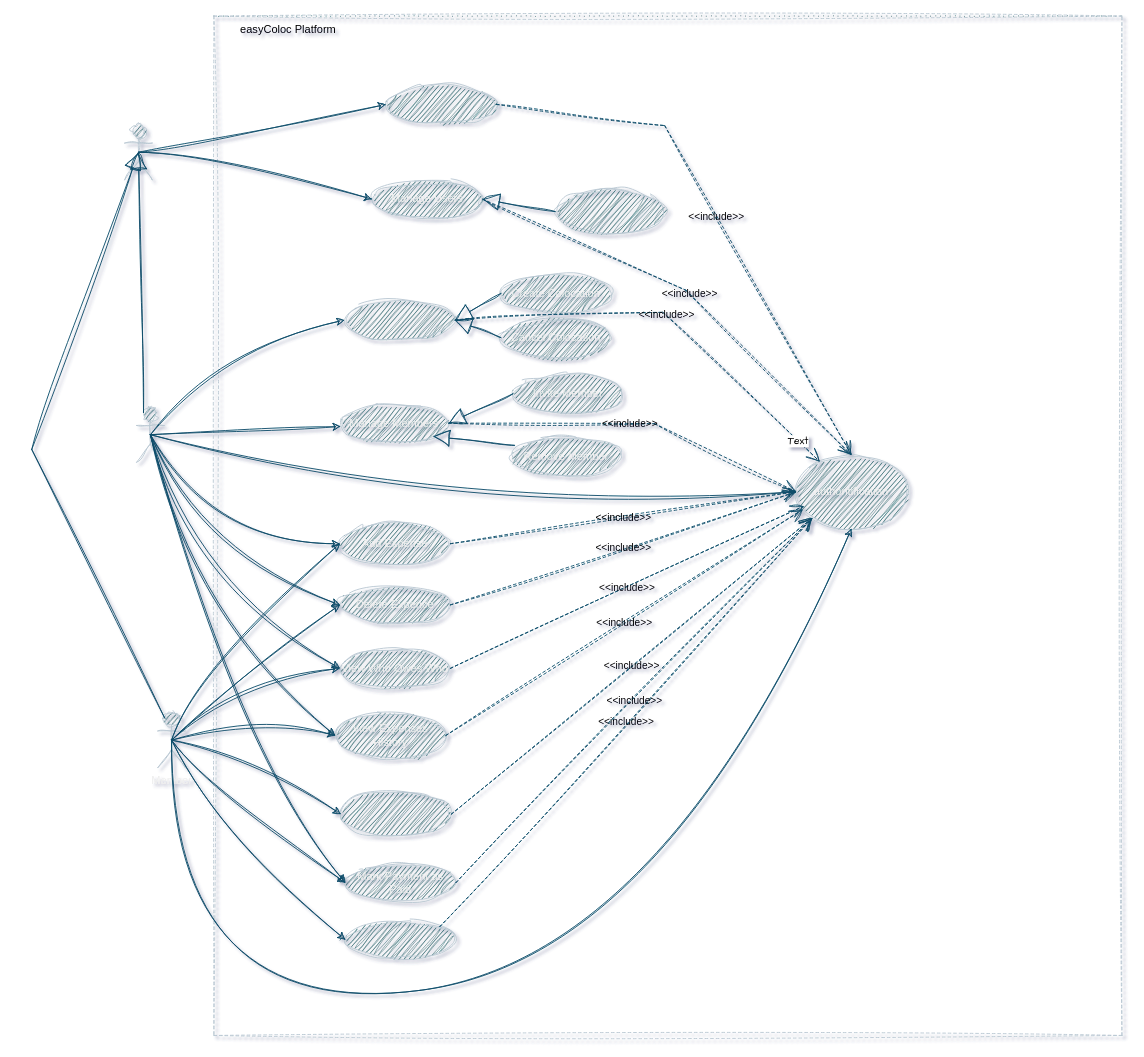
The diagram is 1144 pixels wide and 1057 high, and some of its shapes have lost their labels. The shapes that lost their labels are listed below. From the top down, each one's centre as x and y in pixels, then its label:
At (x=440, y=104): "View Global Statistics".
At (x=138, y=152): "Global Admin".
At (x=610, y=211): "bann/unbann users".
At (x=399, y=319): "Manage Colocation".
At (x=150, y=434): "Owner".
At (x=395, y=814): "Accept/Decline Invitation".
At (x=400, y=939): "Leave Colocation".
